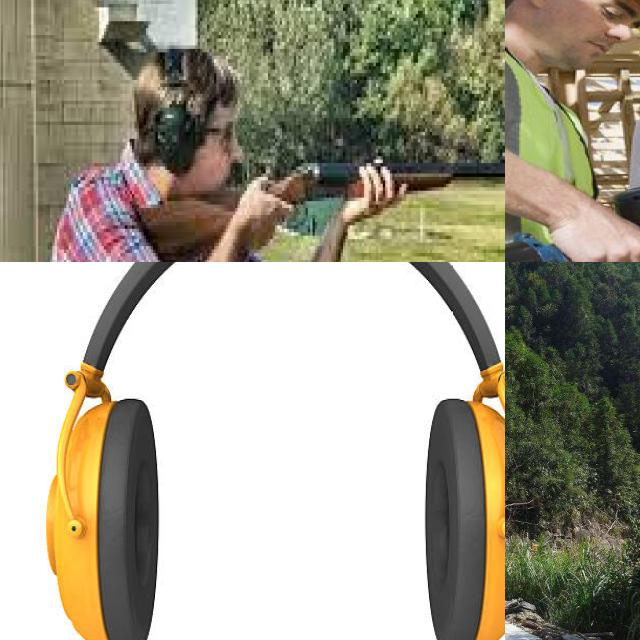Ear-protection: (17, 262, 505, 640), (138, 50, 209, 182)
No_Ear-Protection: (506, 0, 549, 11)
No_Glasses: (566, 0, 640, 28)
face_nomask: (505, 0, 631, 72)
hand_noglove: (552, 214, 640, 262)
